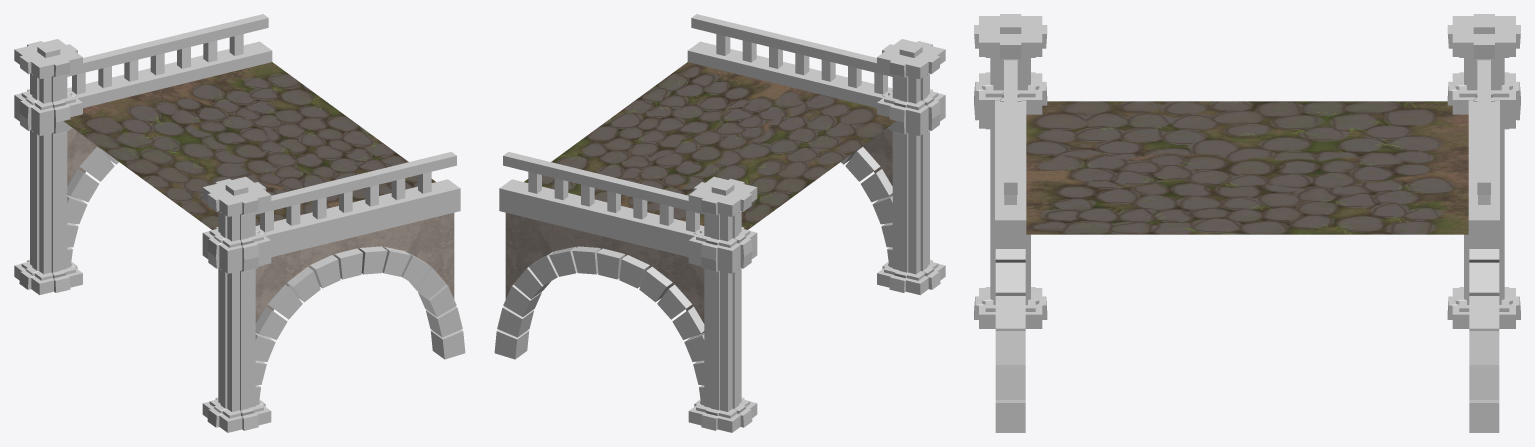
The model's file is bridge_2.fbx.
3 views of the same model, side by side, from view 1: azimuth 30°, elevation 25°; view 2: azimuth 150°, elevation 25°; view 3: azimuth 270°, elevation 25° (orthographic). The views are drawn at different scales.
Parts seen in each view (by area): view 1: Plane.001; view 2: Plane.001; view 3: Plane.001.
Part boxes in pixels (bbox=[...]): Plane.001: bbox=[14, 14, 465, 432]; Plane.001: bbox=[494, 14, 945, 432]; Plane.001: bbox=[974, 14, 1520, 432].
Bounding box in the file's own units: 228 × 205 × 346.
4 materials, 2 textured.
